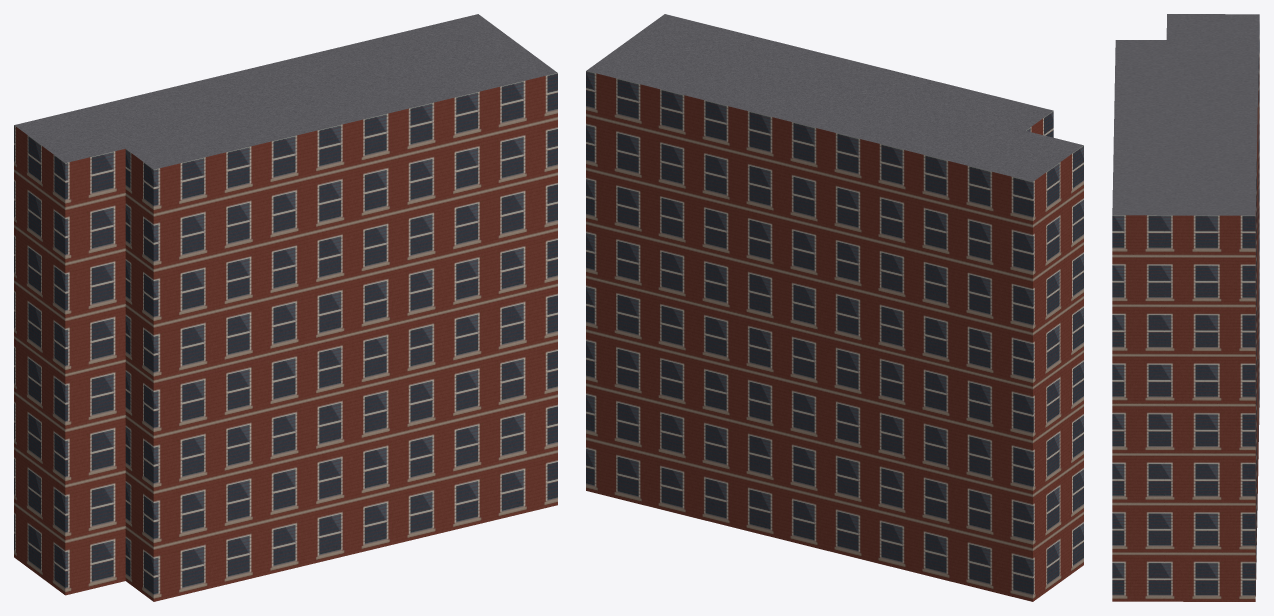
Rendered from bin1016883.glb.
3 renders of one model, left to right at view 1: azimuth 30°, elevation 25°; view 2: azimuth 150°, elevation 25°; view 3: azimuth 270°, elevation 25°, orthographic. The views are drawn at different scales.
Visible parts, largest first — view 1: c1, c2, c0, c4, c3, c5, c11, c8; view 2: c2, c1, c0, c10, c9, c11, c7, c6, c8, c5; view 3: c2, c7, c6, c8, c5, c4, c3, c11, c1, c10, c0, c9.
Part boxes in pixels (<box>): c1: <box>14,218,407,451</box>; c2: <box>14,77,407,279</box>; c0: <box>14,391,407,601</box>; c4: <box>407,182,557,390</box>; c3: <box>407,355,557,540</box>; c5: <box>391,51,557,218</box>; c11: <box>216,36,425,94</box>; c8: <box>387,14,528,58</box>; c2: <box>789,50,1083,288</box>; c1: <box>839,240,1083,455</box>; c0: <box>839,408,1083,601</box>; c10: <box>674,199,839,407</box>; c9: <box>674,367,839,553</box>; c11: <box>674,63,839,240</box>; c7: <box>586,177,674,366</box>; c6: <box>586,345,674,512</box>; c8: <box>586,34,699,199</box>; c5: <box>636,14,808,67</box>; c2: <box>1113,14,1259,187</box>; c7: <box>1164,274,1256,467</box>; c6: <box>1164,428,1256,601</box>; c8: <box>1164,176,1256,313</box>; c5: <box>1112,150,1197,313</box>; c4: <box>1112,313,1164,467</box>; c3: <box>1112,467,1164,601</box>; c11: <box>1148,101,1257,256</box>; c1: <box>1258,120,1259,341</box>; c10: <box>1256,205,1257,410</box>; c0: <box>1258,273,1259,475</box>; c9: <box>1256,359,1257,544</box>.
Bounding box in the file's own units: 30.53 × 27.26 × 9.42.
Materials: 3 (3 with a texture image).
